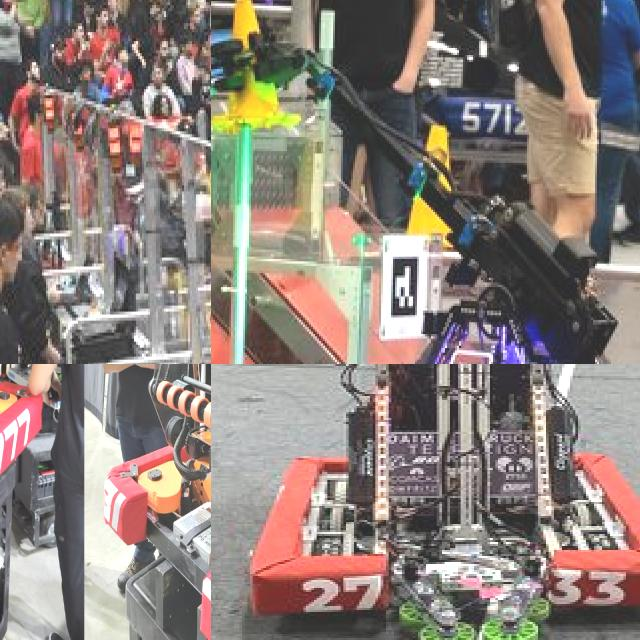FRC-Robots: (211, 0, 640, 364), (232, 364, 640, 640), (90, 364, 211, 640), (0, 364, 80, 640)
